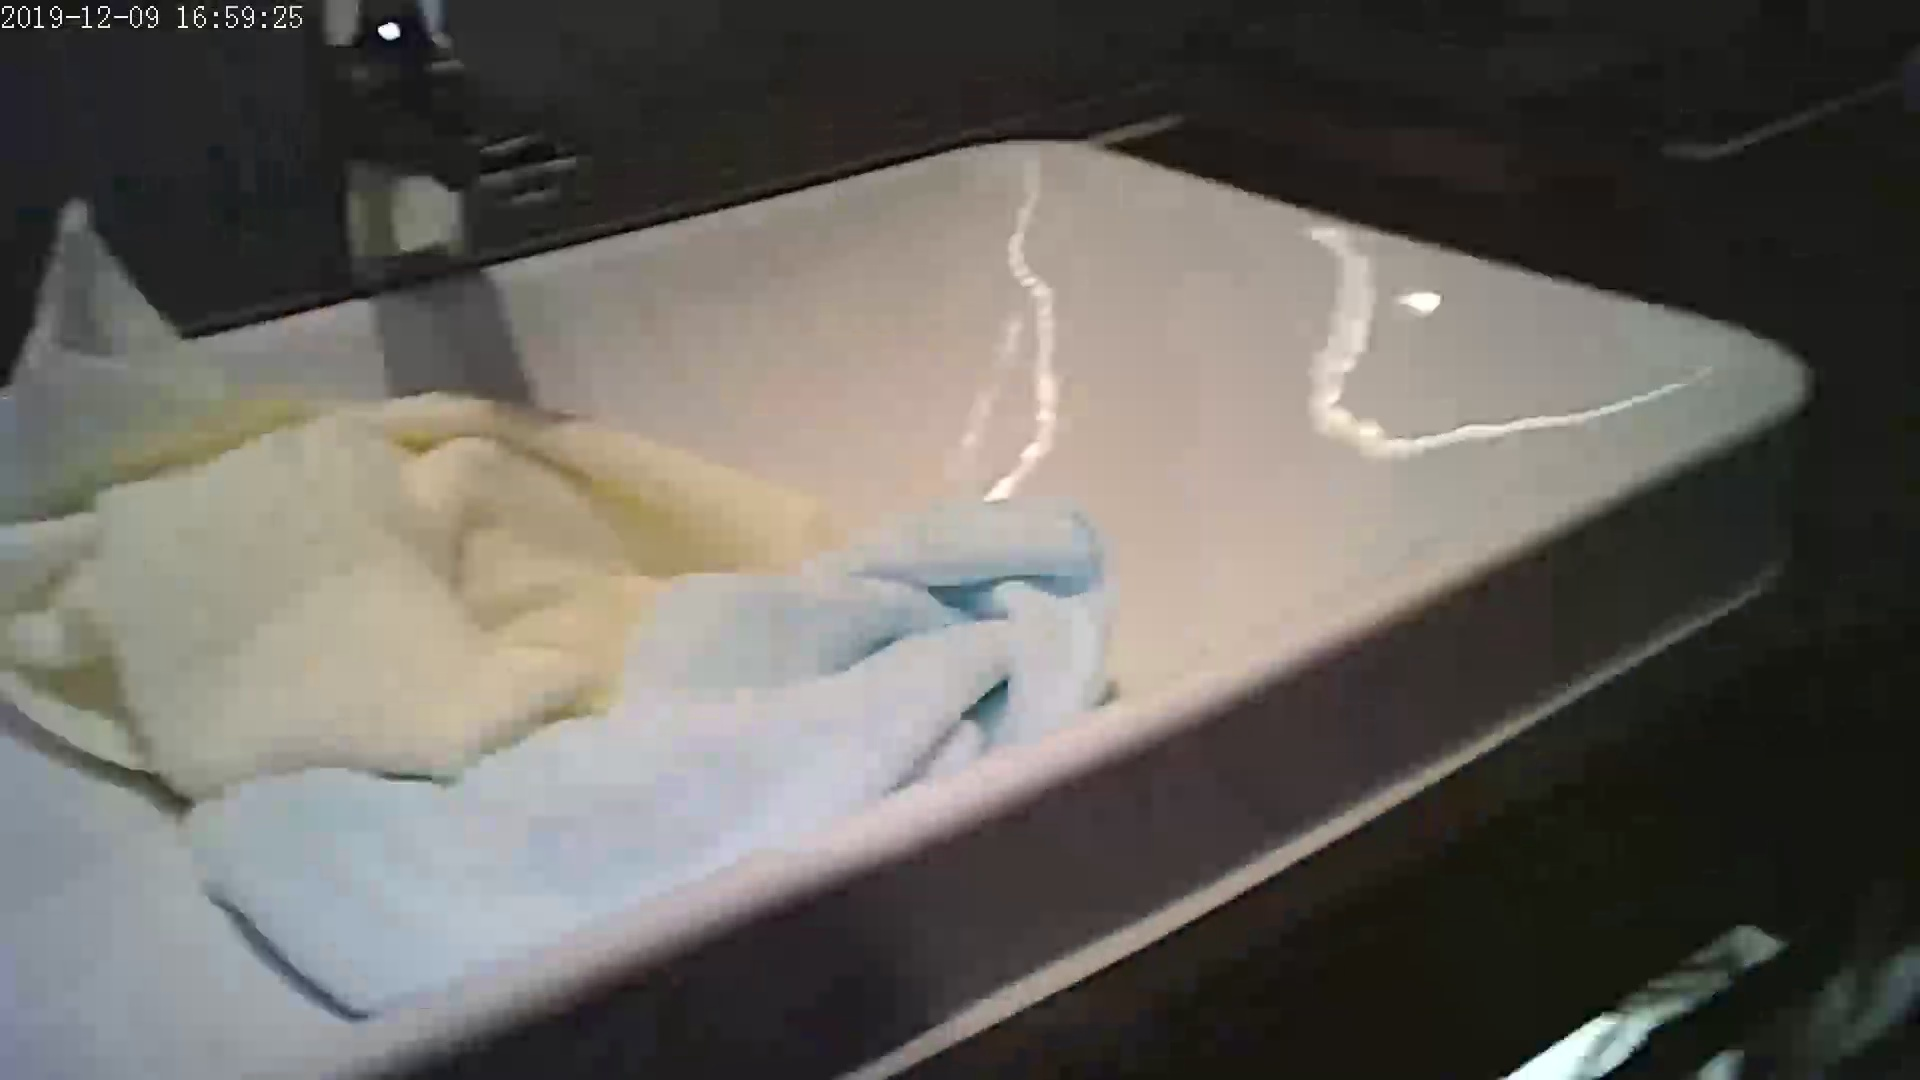bluecloth: (582, 549, 1109, 893)
sink: (33, 13, 1816, 1080)
yellowcloth: (88, 382, 579, 757)
